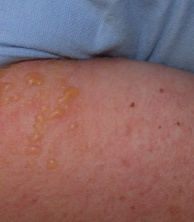SJS-TEN: (0, 41, 194, 222)
